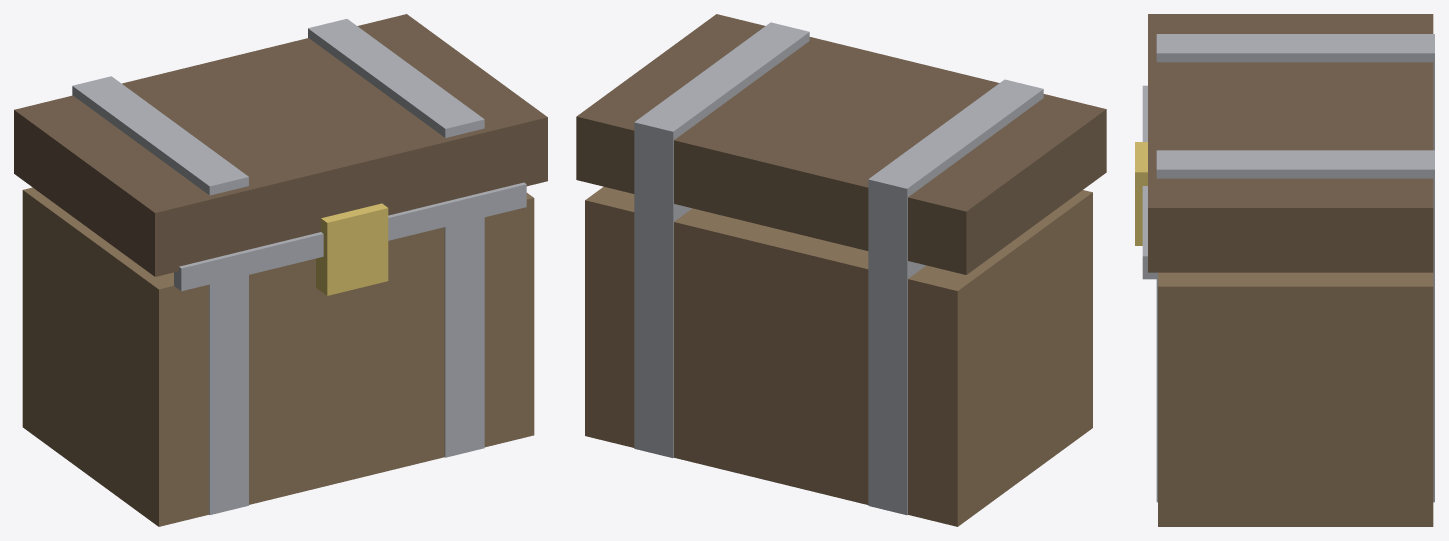
Rendered from chest.glb.
3 views of the same model, side by side, from view 1: azimuth 30°, elevation 25°; view 2: azimuth 150°, elevation 25°; view 3: azimuth 270°, elevation 25° (orthographic).
Parts seen in each view (by area): view 1: Chest; view 2: Chest; view 3: Chest.
Boxes of the visible parts, x1,y1,x2,y2 form: Chest: (14,14,547,526); Chest: (576,14,1106,526); Chest: (1135,14,1434,526).
Bounding box in the file's own units: 0.9 × 0.72 × 0.588.
